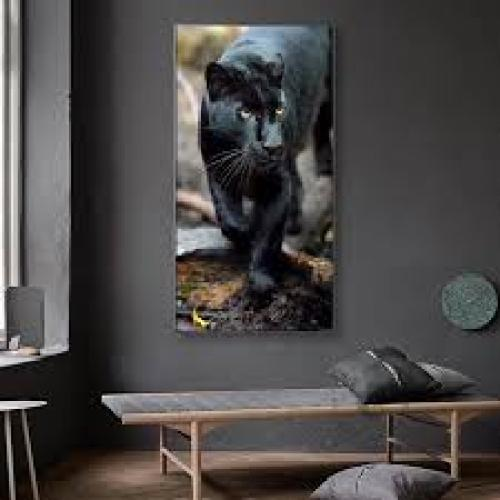panther-endangered: (199, 23, 338, 295)
